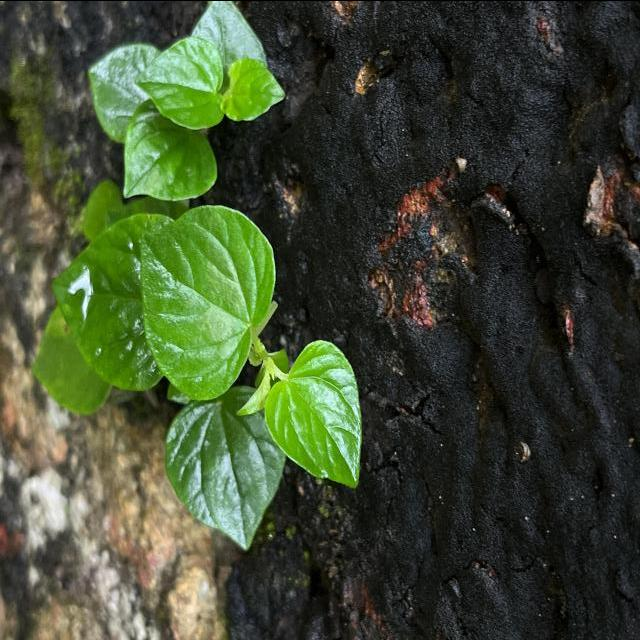Peperomia pellucida: (137, 200, 279, 402), (264, 337, 364, 489)
